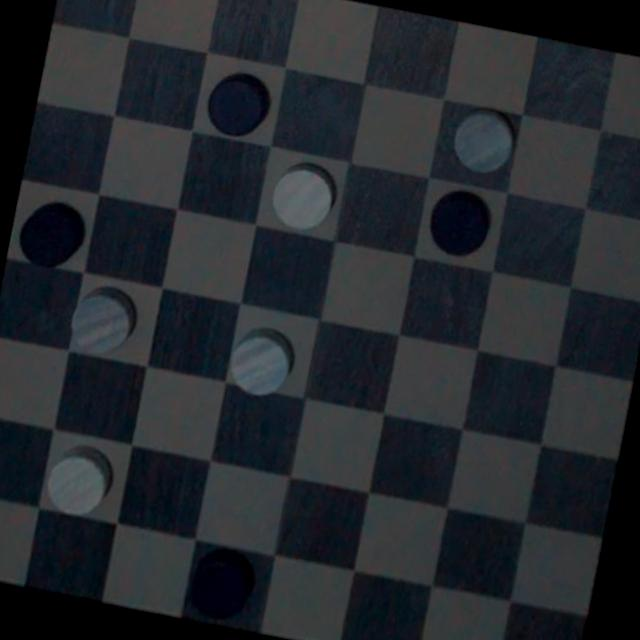BOARD: (0, 0, 640, 640)
black: (175, 538, 270, 634), (418, 182, 508, 272), (6, 188, 98, 274), (197, 64, 275, 142)
white: (36, 424, 131, 526), (221, 315, 299, 410), (58, 283, 151, 362), (261, 156, 346, 242), (444, 96, 530, 180)
